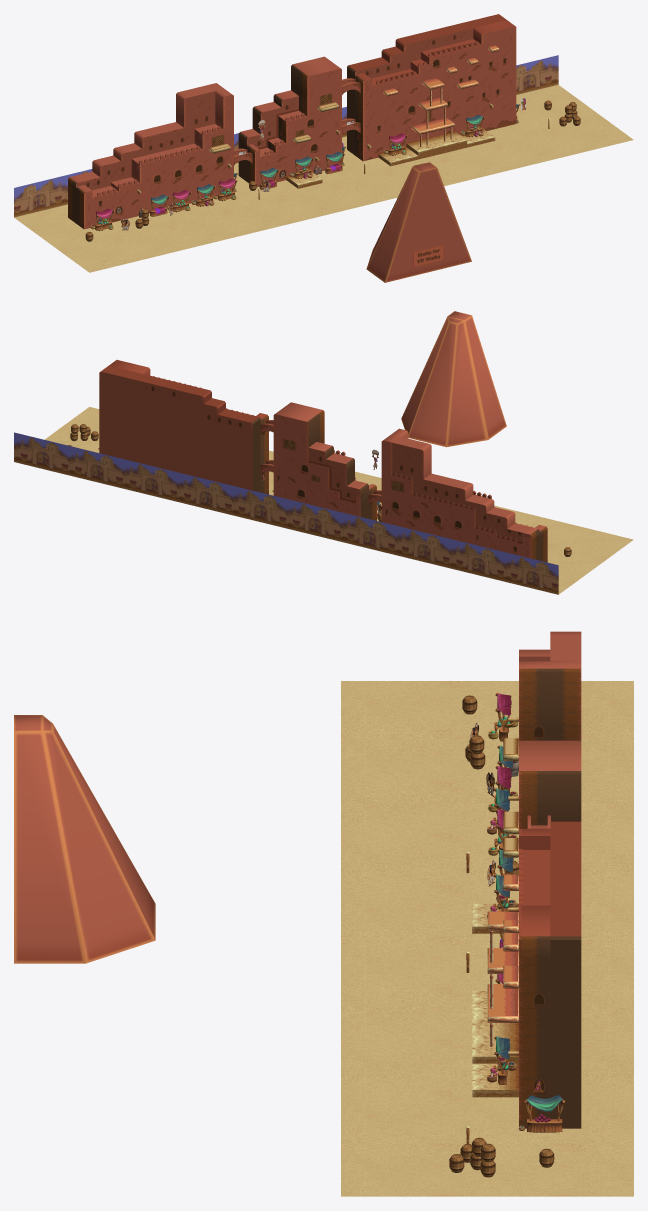
The model's file is market-place.fbx.
The picture shows the model from 3 angles, top to bottom: view 1: azimuth 30°, elevation 25°; view 2: azimuth 150°, elevation 25°; view 3: azimuth 270°, elevation 25°; orthographic projection. The views are drawn at different scales.
Parts seen in each view (by area): view 1: Sand, Building_3, Front_Wall, Building_2, VR_Stella, Back_Wall, Back_City, Brick_Ground, Platform_Lift_1; view 2: Back_City, Back_Wall, Building_3, VR_Stella, Building_2, Sand, Front_Wall; view 3: Sand, VR_Stella, Back_Wall, Front_Wall, Building_3, Building_2, Brick_Ground, Platform_Lift_1.
Boxes of the visible parts, x1,y1,x2,y2 form: Sand: (14, 85, 633, 272); Building_3: (68, 83, 233, 229); Front_Wall: (355, 20, 516, 161); Building_2: (238, 56, 341, 186); VR_Stella: (366, 162, 471, 282); Back_Wall: (347, 14, 506, 155); Back_City: (14, 55, 558, 217); Brick_Ground: (378, 128, 495, 166); Platform_Lift_1: (411, 117, 454, 134); Back_City: (14, 432, 558, 594); Back_Wall: (99, 365, 260, 492); Building_3: (381, 428, 547, 562); VR_Stella: (401, 311, 506, 447); Building_2: (273, 402, 376, 520); Sand: (44, 407, 633, 594); Front_Wall: (109, 360, 268, 494); Sand: (341, 681, 633, 1196); VR_Stella: (14, 715, 155, 963); Back_Wall: (550, 821, 581, 1128); Front_Wall: (519, 828, 550, 1128); Building_3: (519, 631, 581, 740); Building_2: (519, 740, 581, 828); Brick_Ground: (472, 991, 518, 1097); Platform_Lift_1: (487, 984, 518, 1022).
Size of the model in its own units: 2500 by 450 by 1270.
19 materials, 19 textured.
